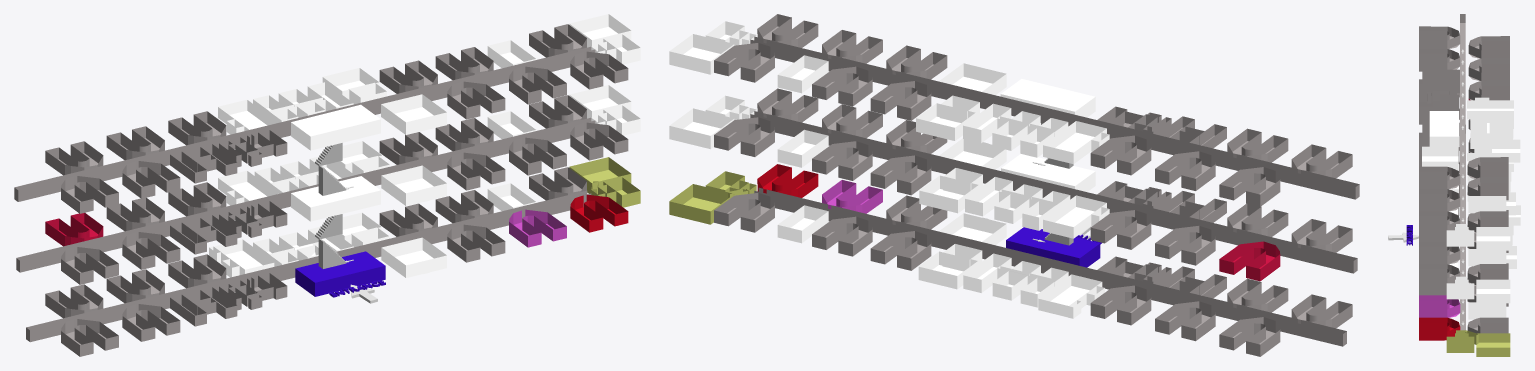
The model's file is hospIn.gltf.
3 views of the same model, side by side, from view 1: azimuth 30°, elevation 25°; view 2: azimuth 150°, elevation 25°; view 3: azimuth 270°, elevation 25° (orthographic). The views are drawn at different scales.
Parts seen in each view (by area): view 1: MAINmapF2, MAINmapF1, MAINmapF0, entranceblk, surgeries2, women, surgeries, masalek, womenSurg3, beauty, womenEmer, stomach (+36 smaller); view 2: MAINmapF2, MAINmapF1, MAINmapF0, surgeries2, surgeries, women, entranceblk, bone1, intestines, skinMasc1, neurology, eyes3 (+34 smaller); view 3: MAINmapF2, MAINmapF1, women, surgeries2, heart, heartSurg, genSurg2, genSurg4, beauty, burnEmer, womenEmer, womenSurg3 (+20 smaller).
Part boxes in pixels (bbox=[...]): MAINmapF2: bbox=[14, 14, 640, 201]; MAINmapF1: bbox=[16, 85, 640, 272]; MAINmapF0: bbox=[26, 190, 591, 342]; entranceblk: bbox=[295, 251, 385, 296]; surgeries2: bbox=[253, 82, 353, 122]; women: bbox=[569, 157, 640, 207]; surgeries: bbox=[254, 156, 354, 193]; masalek: bbox=[447, 152, 505, 190]; womenSurg3: bbox=[570, 51, 628, 89]; beauty: bbox=[447, 81, 505, 119]; womenEmer: bbox=[570, 194, 628, 232]; stomach: bbox=[447, 224, 505, 262]; MAINmapF2: bbox=[669, 21, 1359, 199]; MAINmapF1: bbox=[669, 95, 1357, 273]; MAINmapF0: bbox=[754, 187, 1346, 346]; surgeries2: bbox=[963, 103, 1068, 157]; surgeries: bbox=[965, 177, 1070, 230]; women: bbox=[669, 171, 756, 224]; entranceblk: bbox=[1006, 227, 1100, 267]; bone1: bbox=[870, 231, 931, 270]; intestines: bbox=[870, 81, 931, 120]; skinMasc1: bbox=[1219, 317, 1280, 356]; neurology: bbox=[1090, 285, 1151, 325]; eyes3: bbox=[1090, 210, 1151, 249]; MAINmapF2: bbox=[1422, 14, 1520, 250]; MAINmapF1: bbox=[1446, 153, 1515, 303]; women: bbox=[1446, 330, 1510, 356]; surgeries2: bbox=[1470, 113, 1513, 148]; heart: bbox=[1468, 36, 1509, 58]; heartSurg: bbox=[1419, 26, 1460, 48]; genSurg2: bbox=[1468, 58, 1509, 80]; genSurg4: bbox=[1419, 189, 1460, 211]; beauty: bbox=[1419, 166, 1460, 189]; burnEmer: bbox=[1419, 295, 1460, 317]; womenEmer: bbox=[1419, 317, 1460, 340]; womenSurg3: bbox=[1419, 211, 1460, 234].
Bounding box in the file's own units: 12.44 × 3.04 × 3.09.
